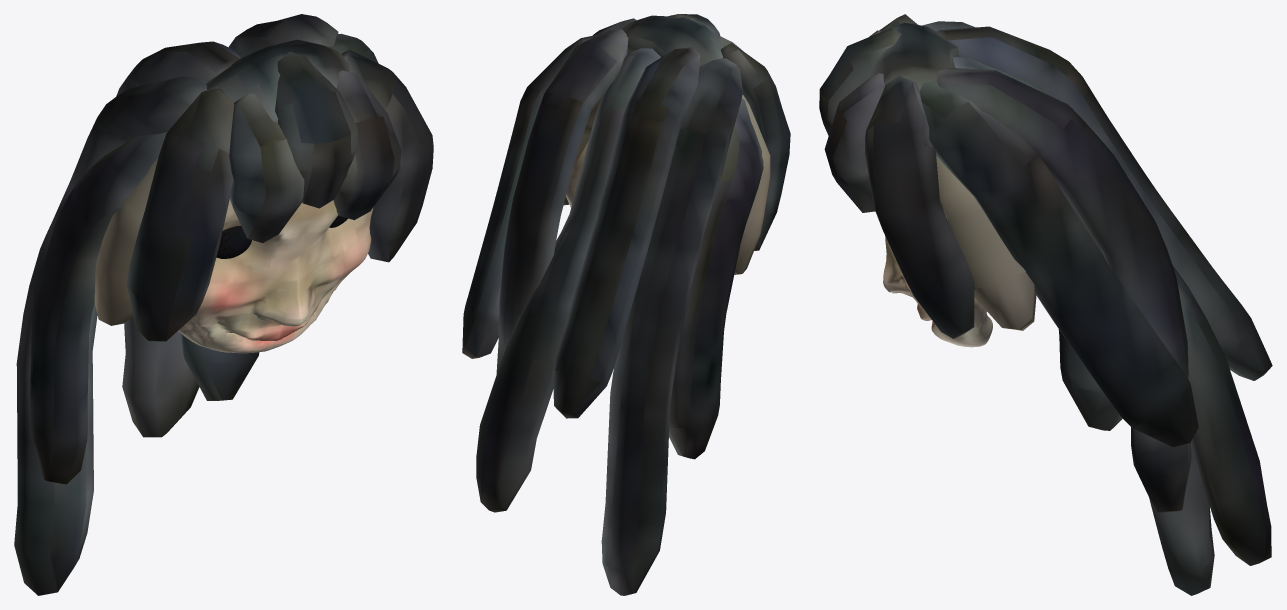
File: doll-head.glb
3 views of the same model, side by side, from view 1: azimuth 30°, elevation 25°; view 2: azimuth 150°, elevation 25°; view 3: azimuth 270°, elevation 25° (orthographic). The views are drawn at different scales.
Parts seen in each view (by area): view 1: doll_head; view 2: doll_head; view 3: doll_head.
Boxes of the visible parts, x1,y1,x2,y2 form: doll_head: (14, 14, 433, 595); doll_head: (462, 14, 790, 595); doll_head: (819, 14, 1272, 595).
Bounding box in the file's own units: 1.01 × 2 × 1.36.
Materials: 1 (1 with a texture image).
